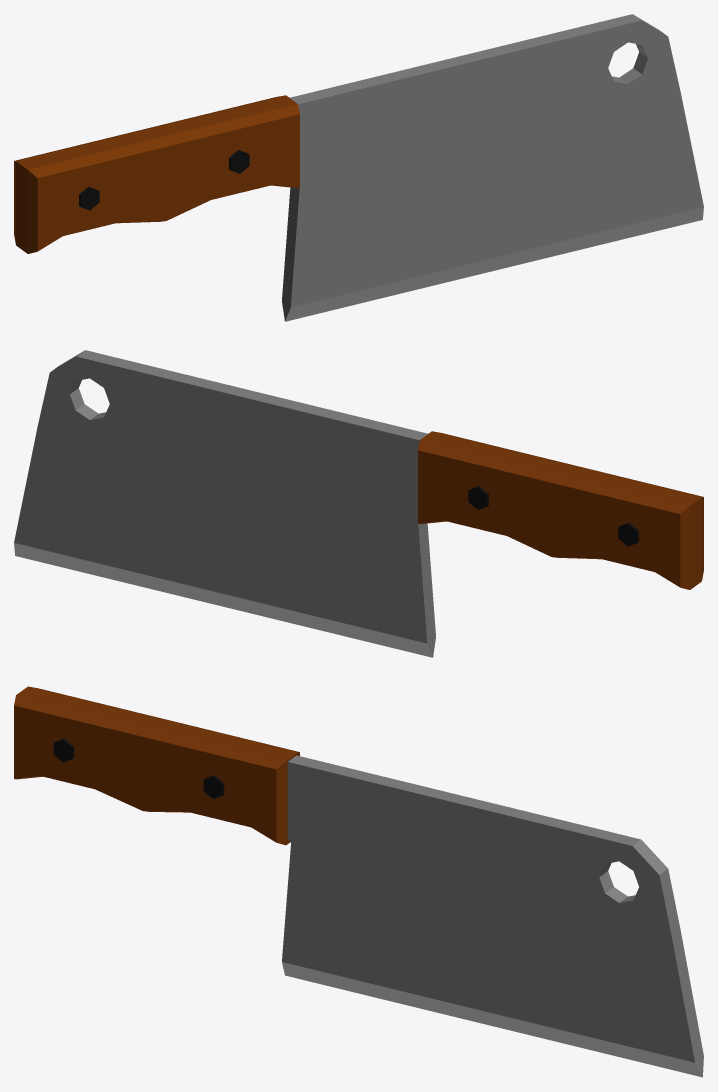
The model's file is cleaver.glb.
3 renders of one model, top to bottom at view 1: azimuth 30°, elevation 25°; view 2: azimuth 150°, elevation 25°; view 3: azimuth 330°, elevation 25°, orthographic.
Visible parts, largest first — view 1: cleaver; view 2: cleaver; view 3: cleaver.
Boxes of the visible parts, left/top/right/bottom form: cleaver: left=14, top=14, right=703, bottom=321; cleaver: left=14, top=350, right=703, bottom=657; cleaver: left=14, top=686, right=703, bottom=1077.
Bounding box in the file's own units: 0.3441 × 0.1065 × 0.0236.
1 material, 1 textured.
